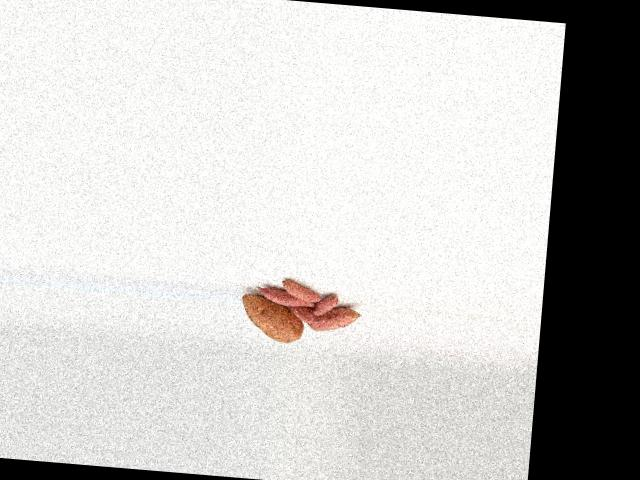sweet_potato: (309, 304, 363, 334)
